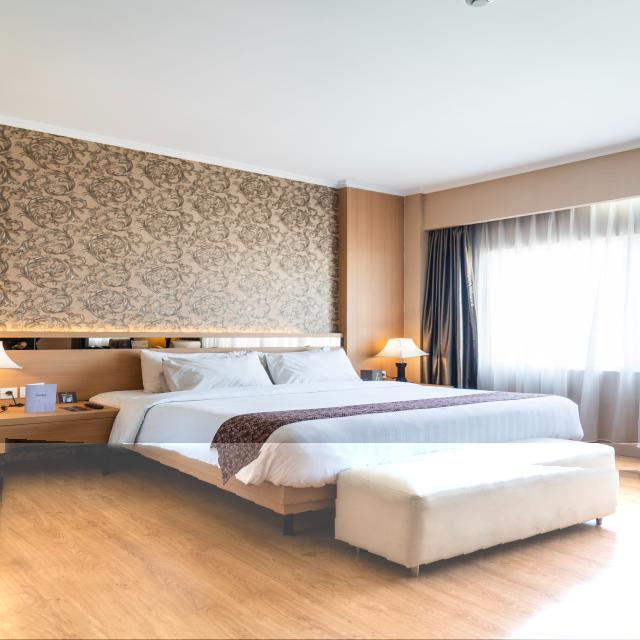floor: (0, 444, 640, 639)
